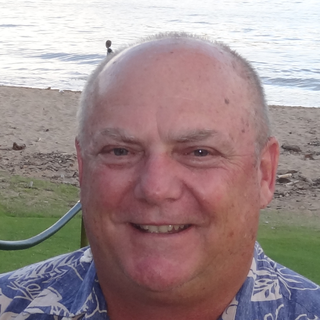eye: (177, 141, 224, 164), (95, 141, 142, 163)
